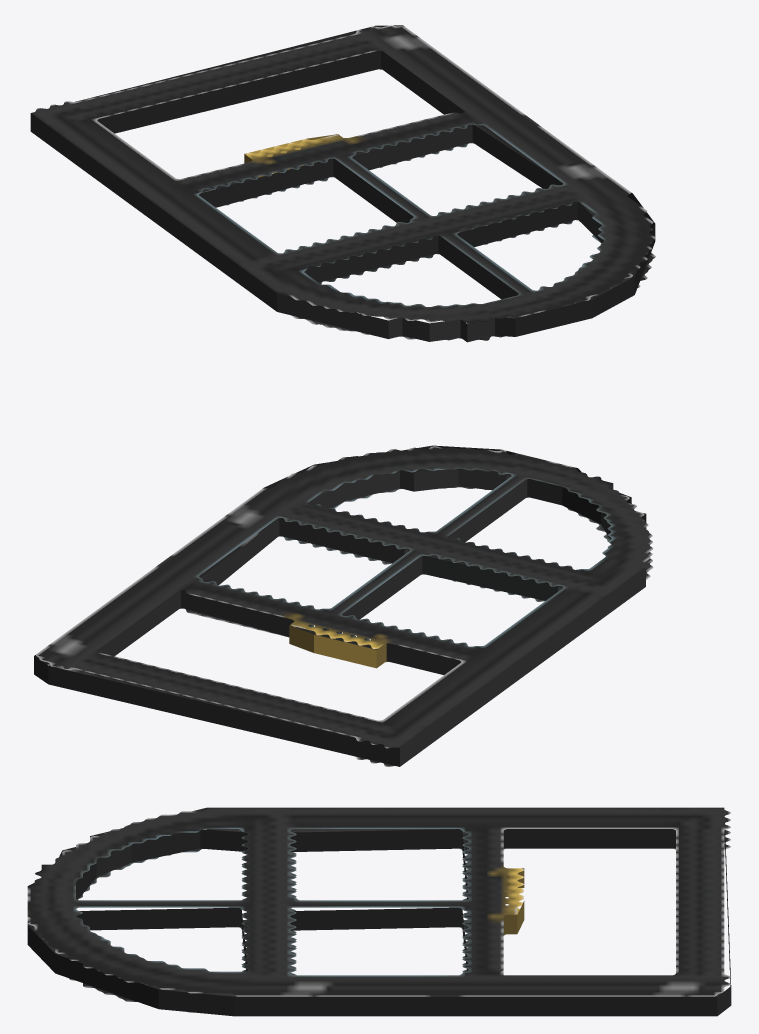
Rendered from pz_native_fixtures_windows_metal_51_frame.obj.
The picture shows the model from 3 angles, top to bottom: view 1: azimuth 30°, elevation 25°; view 2: azimuth 150°, elevation 25°; view 3: azimuth 270°, elevation 25°; orthographic projection. The views are drawn at different scales.
Parts seen in each view (by area): view 1: pz_native_fixtures_windows_metal_51_frame; view 2: pz_native_fixtures_windows_metal_51_frame; view 3: pz_native_fixtures_windows_metal_51_frame.
Boxes of the visible parts, x1=… form: pz_native_fixtures_windows_metal_51_frame: x1=30, y1=25, x2=655, y2=342; pz_native_fixtures_windows_metal_51_frame: x1=34, y1=445, x2=653, y2=766; pz_native_fixtures_windows_metal_51_frame: x1=27, y1=807, x2=731, y2=1016.
Bounding box in the file's own units: 0.8594 × 0.04 × 1.35.
Materials: 1 (1 with a texture image).
